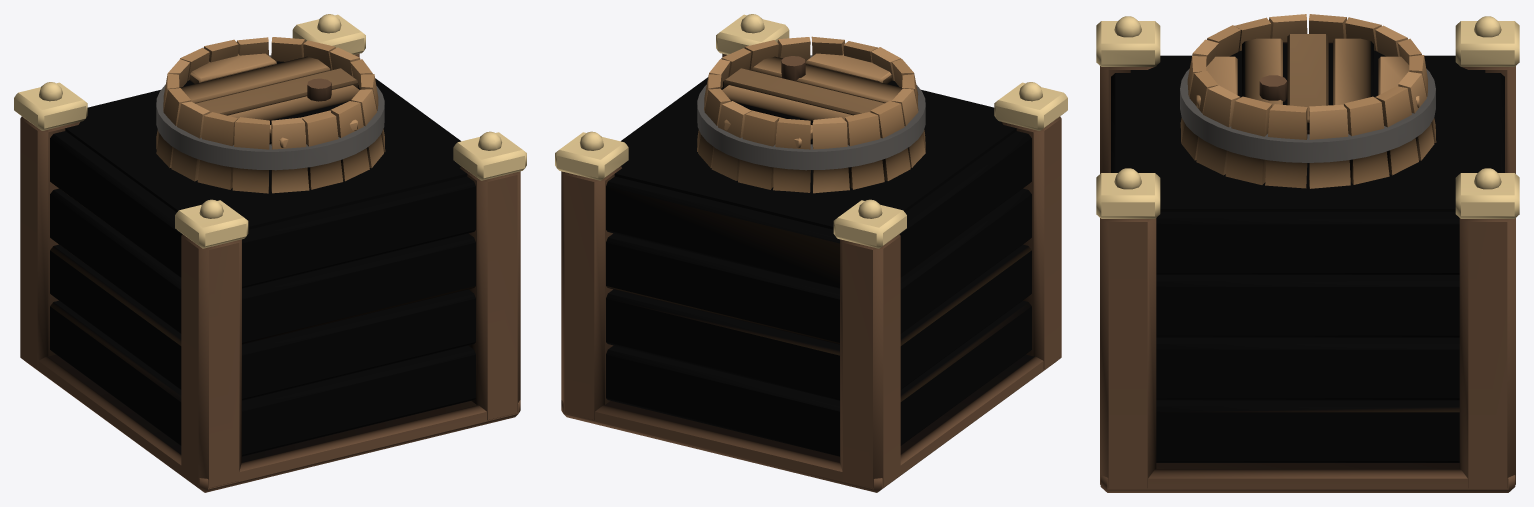
File: decor.glb
The picture shows the model from 3 angles, left to right: view 1: azimuth 30°, elevation 25°; view 2: azimuth 150°, elevation 25°; view 3: azimuth 270°, elevation 25°; orthographic projection. The views are drawn at different scales.
Parts seen in each view (by area): view 1: PlanterMesh, BarrelMesh; view 2: PlanterMesh, BarrelMesh; view 3: PlanterMesh, BarrelMesh.
Part boxes in pixels (<box>): PlanterMesh: <box>14,14,526,492</box>; BarrelMesh: <box>156,37,385,193</box>; PlanterMesh: <box>555,14,1067,492</box>; BarrelMesh: <box>697,36,925,193</box>; PlanterMesh: <box>1096,16,1519,492</box>; BarrelMesh: <box>1180,14,1436,188</box>.
Size of the model in its own units: 49 by 44.23 by 49.
